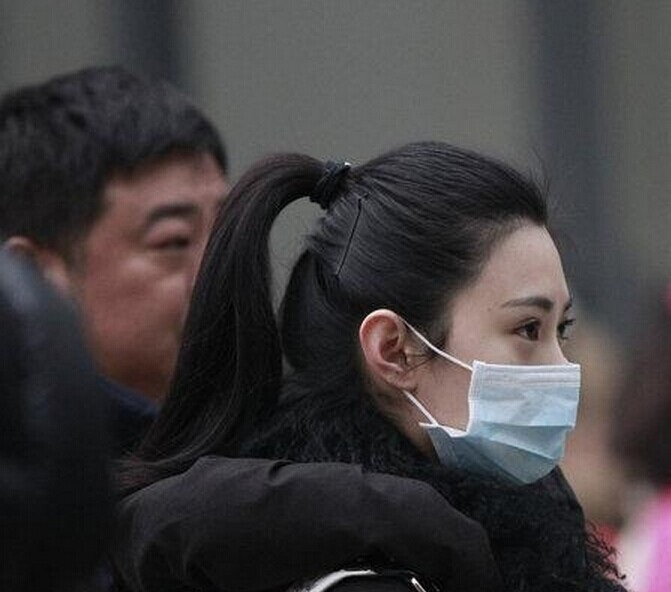face: (70, 147, 240, 385)
face_mask: (417, 223, 576, 475)
